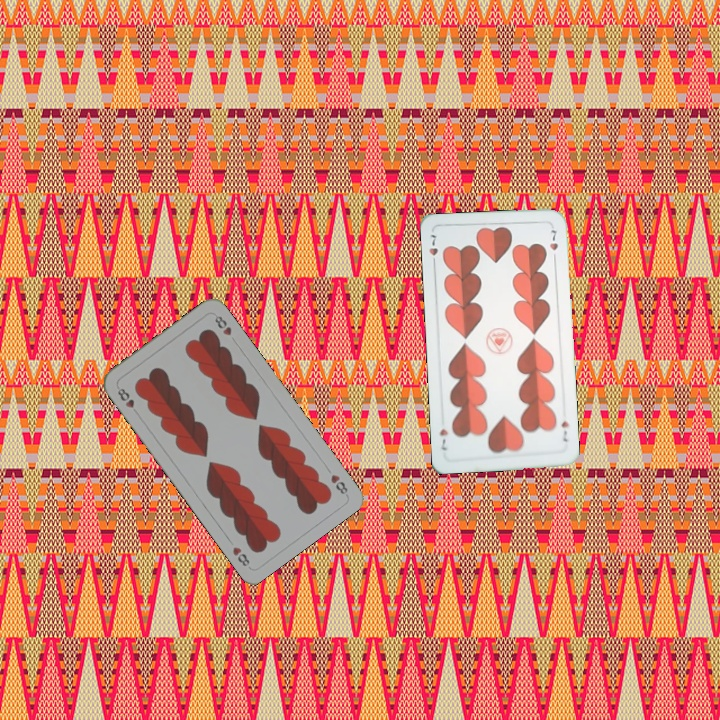H7: (425, 231, 440, 269), (557, 417, 571, 444)
H8: (113, 384, 141, 418), (327, 470, 350, 498)
